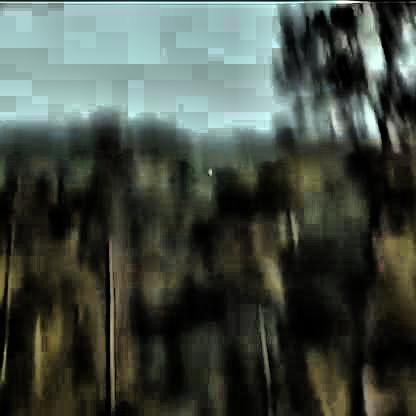golfball: (204, 161, 209, 171)
